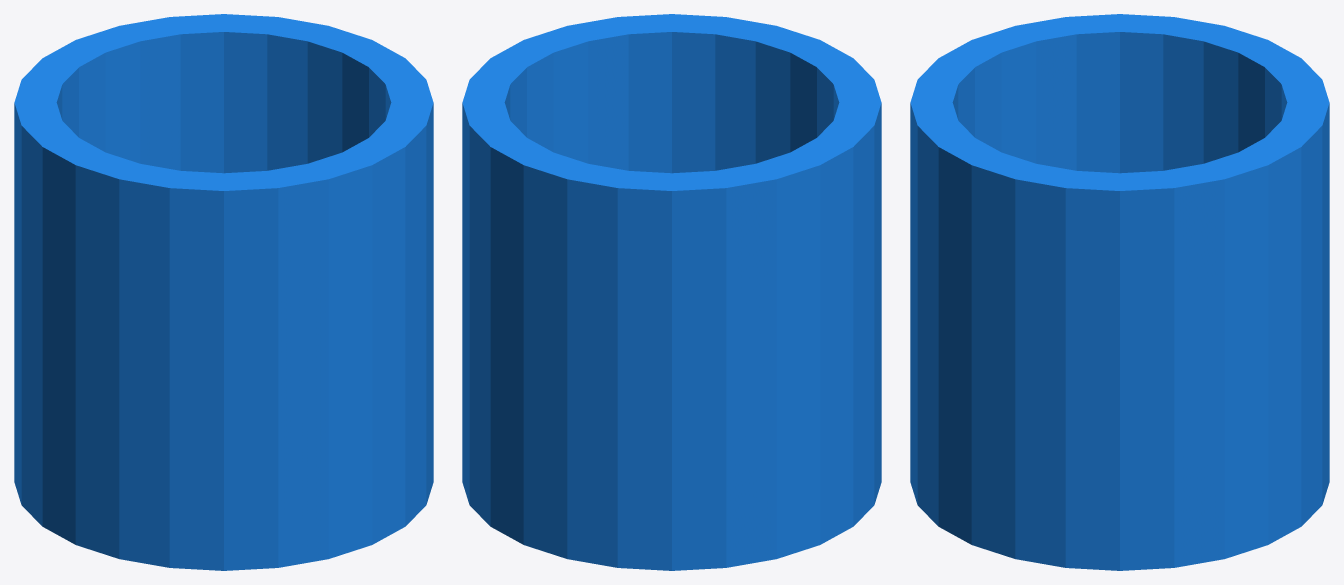
File: Proto_Block_Tube_Round_01.fbx
3 renders of one model, left to right at view 1: azimuth 30°, elevation 25°; view 2: azimuth 150°, elevation 25°; view 3: azimuth 270°, elevation 25°, orthographic.
Parts seen in each view (by area): view 1: Proto_Block_Tube_Round_01; view 2: Proto_Block_Tube_Round_01; view 3: Proto_Block_Tube_Round_01.
Boxes of the visible parts, <box> form: Proto_Block_Tube_Round_01: <box>14,14,433,570</box>; Proto_Block_Tube_Round_01: <box>462,14,881,570</box>; Proto_Block_Tube_Round_01: <box>910,14,1329,570</box>.
Bounding box in the file's own units: 1 × 1 × 1.
